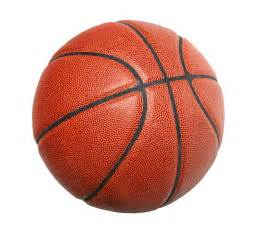basketball: (30, 19, 225, 214)
